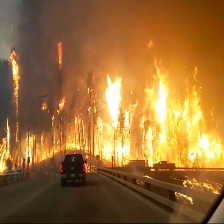fire: (1, 50, 224, 172)
smoke: (12, 1, 224, 76)
